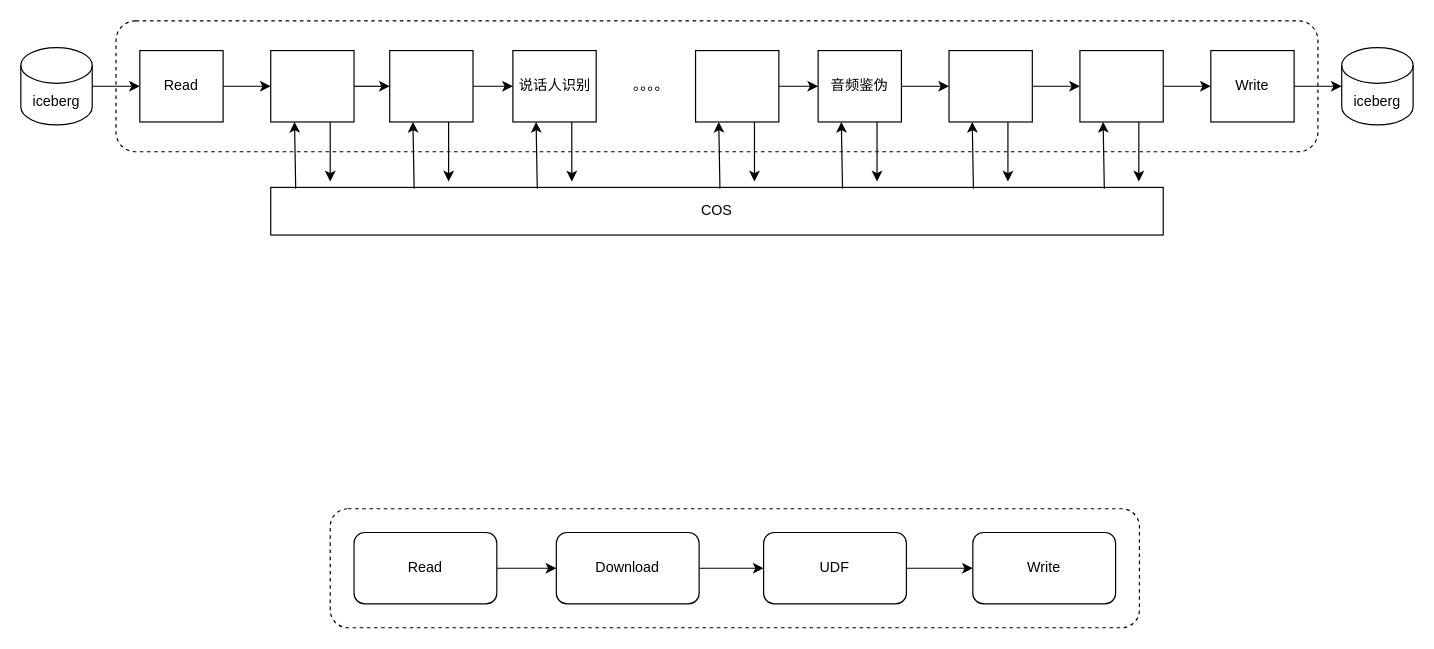
Image size: 1434x649. Some labels were removed from this diagram. The shapes that lost their labels are listed below. From the top down, each one's box as (x1, y1, x2, y2) in pixels, then its label:
(270, 49, 354, 122): 降噪
(389, 49, 473, 122): 重采样
(694, 49, 779, 122): 有效带宽
(948, 49, 1032, 122): ASR
(1079, 49, 1163, 122): compare
